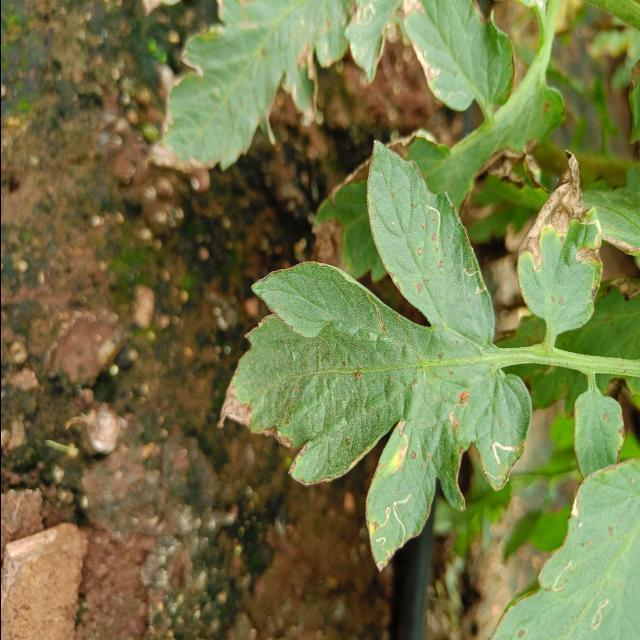Tomato mosaic virus leaf: (360, 126, 486, 334), (510, 140, 608, 333), (570, 386, 627, 490)
